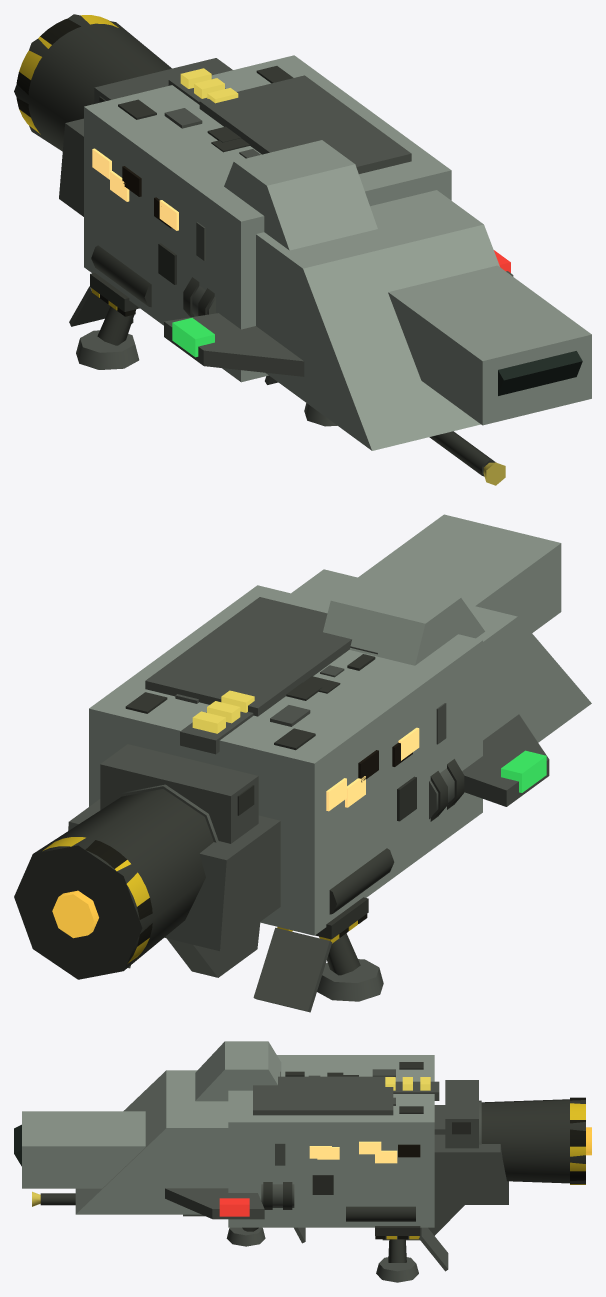
Rendered from courier-s(1).glb.
3 views of the same model, one above another, from view 1: azimuth 30°, elevation 25°; view 2: azimuth 150°, elevation 25°; view 3: azimuth 270°, elevation 25° (orthographic). The views are drawn at different scales.
Visible parts, largest first — view 1: hullForebody, hullMain, hullNose, canopyFairing, accentStripe, engineHousing, canardLeft, cockpitGlass, hullTailWedge, engineBayExtension, gearFoot, courierShipServicePipeL (+6 smaller); view 2: hullMain, engineHousing, hullNose, accentStripe, hullForebody, hullTailWedge, canopyFairing, engineBayExtension, gearBayDoor, canardLeft, ventralFin, gearFoot (+7 smaller); view 3: hullMain, hullForebody, hullNose, engineHousing, accentStripe, hullTailWedge, canopyFairing, engineBayExtension, canardRight, gearFoot (×2), courierShipServicePipeR, gearBayDoor (+8 smaller).
Boxes of the visible parts, bbox=[...] form: hullForebody: bbox=[256, 190, 499, 450]; hullMain: bbox=[84, 55, 451, 382]; hullNose: bbox=[388, 265, 591, 425]; canopyFairing: bbox=[224, 140, 377, 250]; accentStripe: bbox=[199, 75, 411, 173]; engineHousing: bbox=[14, 14, 171, 151]; canardLeft: bbox=[164, 313, 304, 376]; cockpitGlass: bbox=[498, 351, 582, 395]; hullTailWedge: bbox=[59, 118, 83, 216]; engineBayExtension: bbox=[94, 58, 232, 103]; gearFoot: bbox=[76, 330, 139, 369]; courierShipServicePipeL: bbox=[91, 245, 151, 307]; hullMain: bbox=[89, 585, 482, 935]; engineHousing: bbox=[14, 789, 213, 979]; hullNose: bbox=[358, 514, 561, 632]; accentStripe: bbox=[145, 597, 351, 716]; hullForebody: bbox=[291, 569, 591, 742]; hullTailWedge: bbox=[68, 799, 280, 951]; canopyFairing: bbox=[323, 574, 484, 665]; engineBayExtension: bbox=[100, 744, 258, 843]; gearBayDoor: bbox=[253, 927, 332, 1012]; canardLeft: bbox=[462, 714, 549, 806]; ventralFin: bbox=[167, 922, 260, 977]; gearFoot: bbox=[317, 959, 383, 1001]; hullMain: bbox=[228, 1055, 434, 1227]; hullForebody: bbox=[75, 1070, 228, 1214]; hullNose: bbox=[22, 1111, 145, 1188]; engineHousing: bbox=[481, 1099, 585, 1183]; accentStripe: bbox=[253, 1076, 393, 1115]; hullTailWedge: bbox=[434, 1105, 508, 1204]; canopyFairing: bbox=[195, 1041, 281, 1101]; engineBayExtension: bbox=[445, 1080, 478, 1148]; canardRight: bbox=[165, 1188, 264, 1219]; gearFoot (×2): bbox=[226, 1227, 418, 1282]; courierShipServicePipeR: bbox=[346, 1206, 415, 1221]; gearBayDoor: bbox=[419, 1227, 448, 1271].
Bounding box in the file's own units: 1.27 × 1.01 × 3.08.
